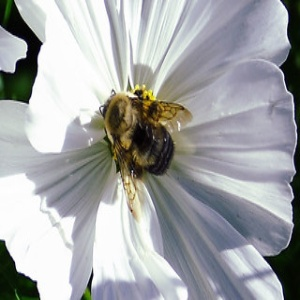bee: (98, 90, 193, 220)
